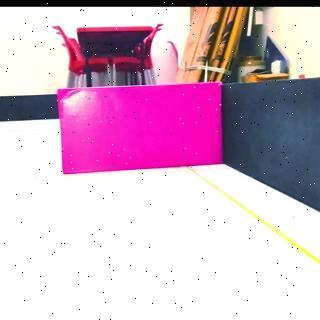xparking: (55, 88, 222, 175)
